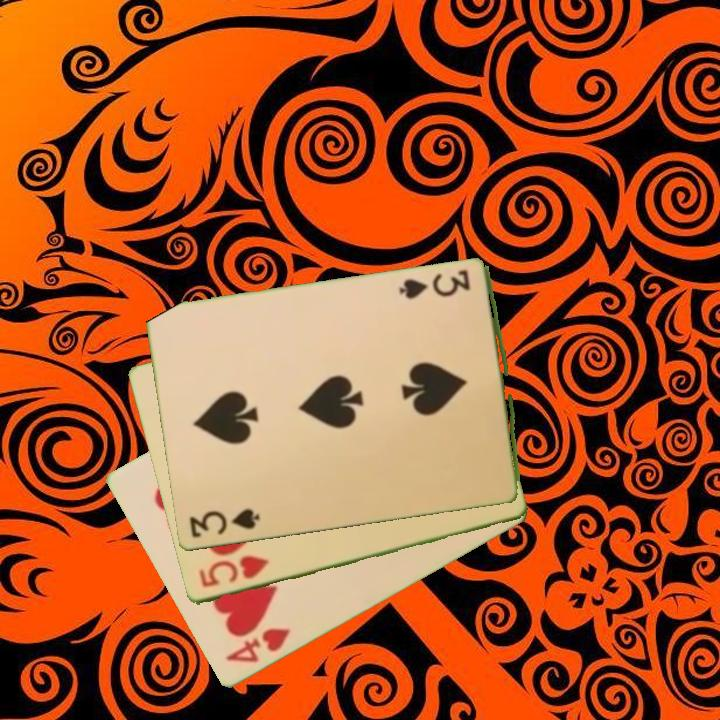3s: (185, 505, 262, 541), (399, 267, 473, 303)
4h: (222, 625, 293, 667)
5h: (195, 552, 271, 591)
